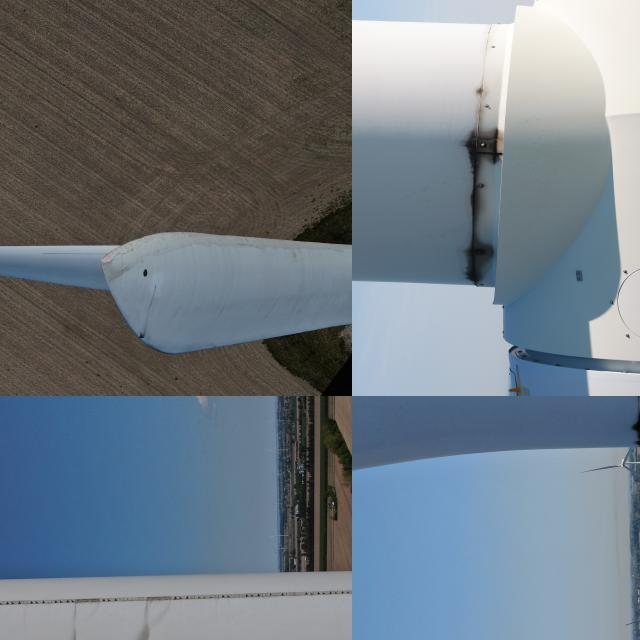damage: (430, 117, 510, 225), (446, 232, 506, 293), (622, 412, 639, 450), (288, 587, 312, 598), (124, 594, 146, 606), (144, 594, 170, 604), (72, 596, 98, 606), (73, 598, 97, 606), (151, 284, 159, 290)
